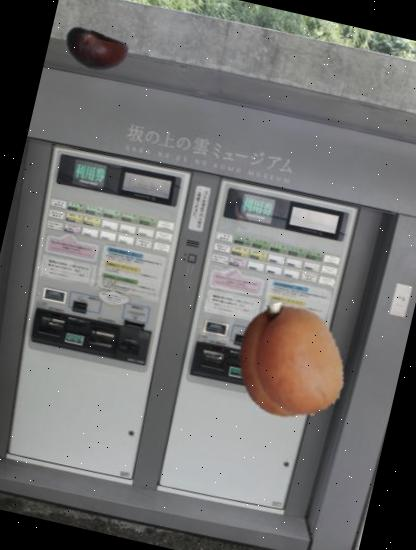Apricot: (218, 290, 360, 431)
Chestnut: (55, 11, 134, 90)
